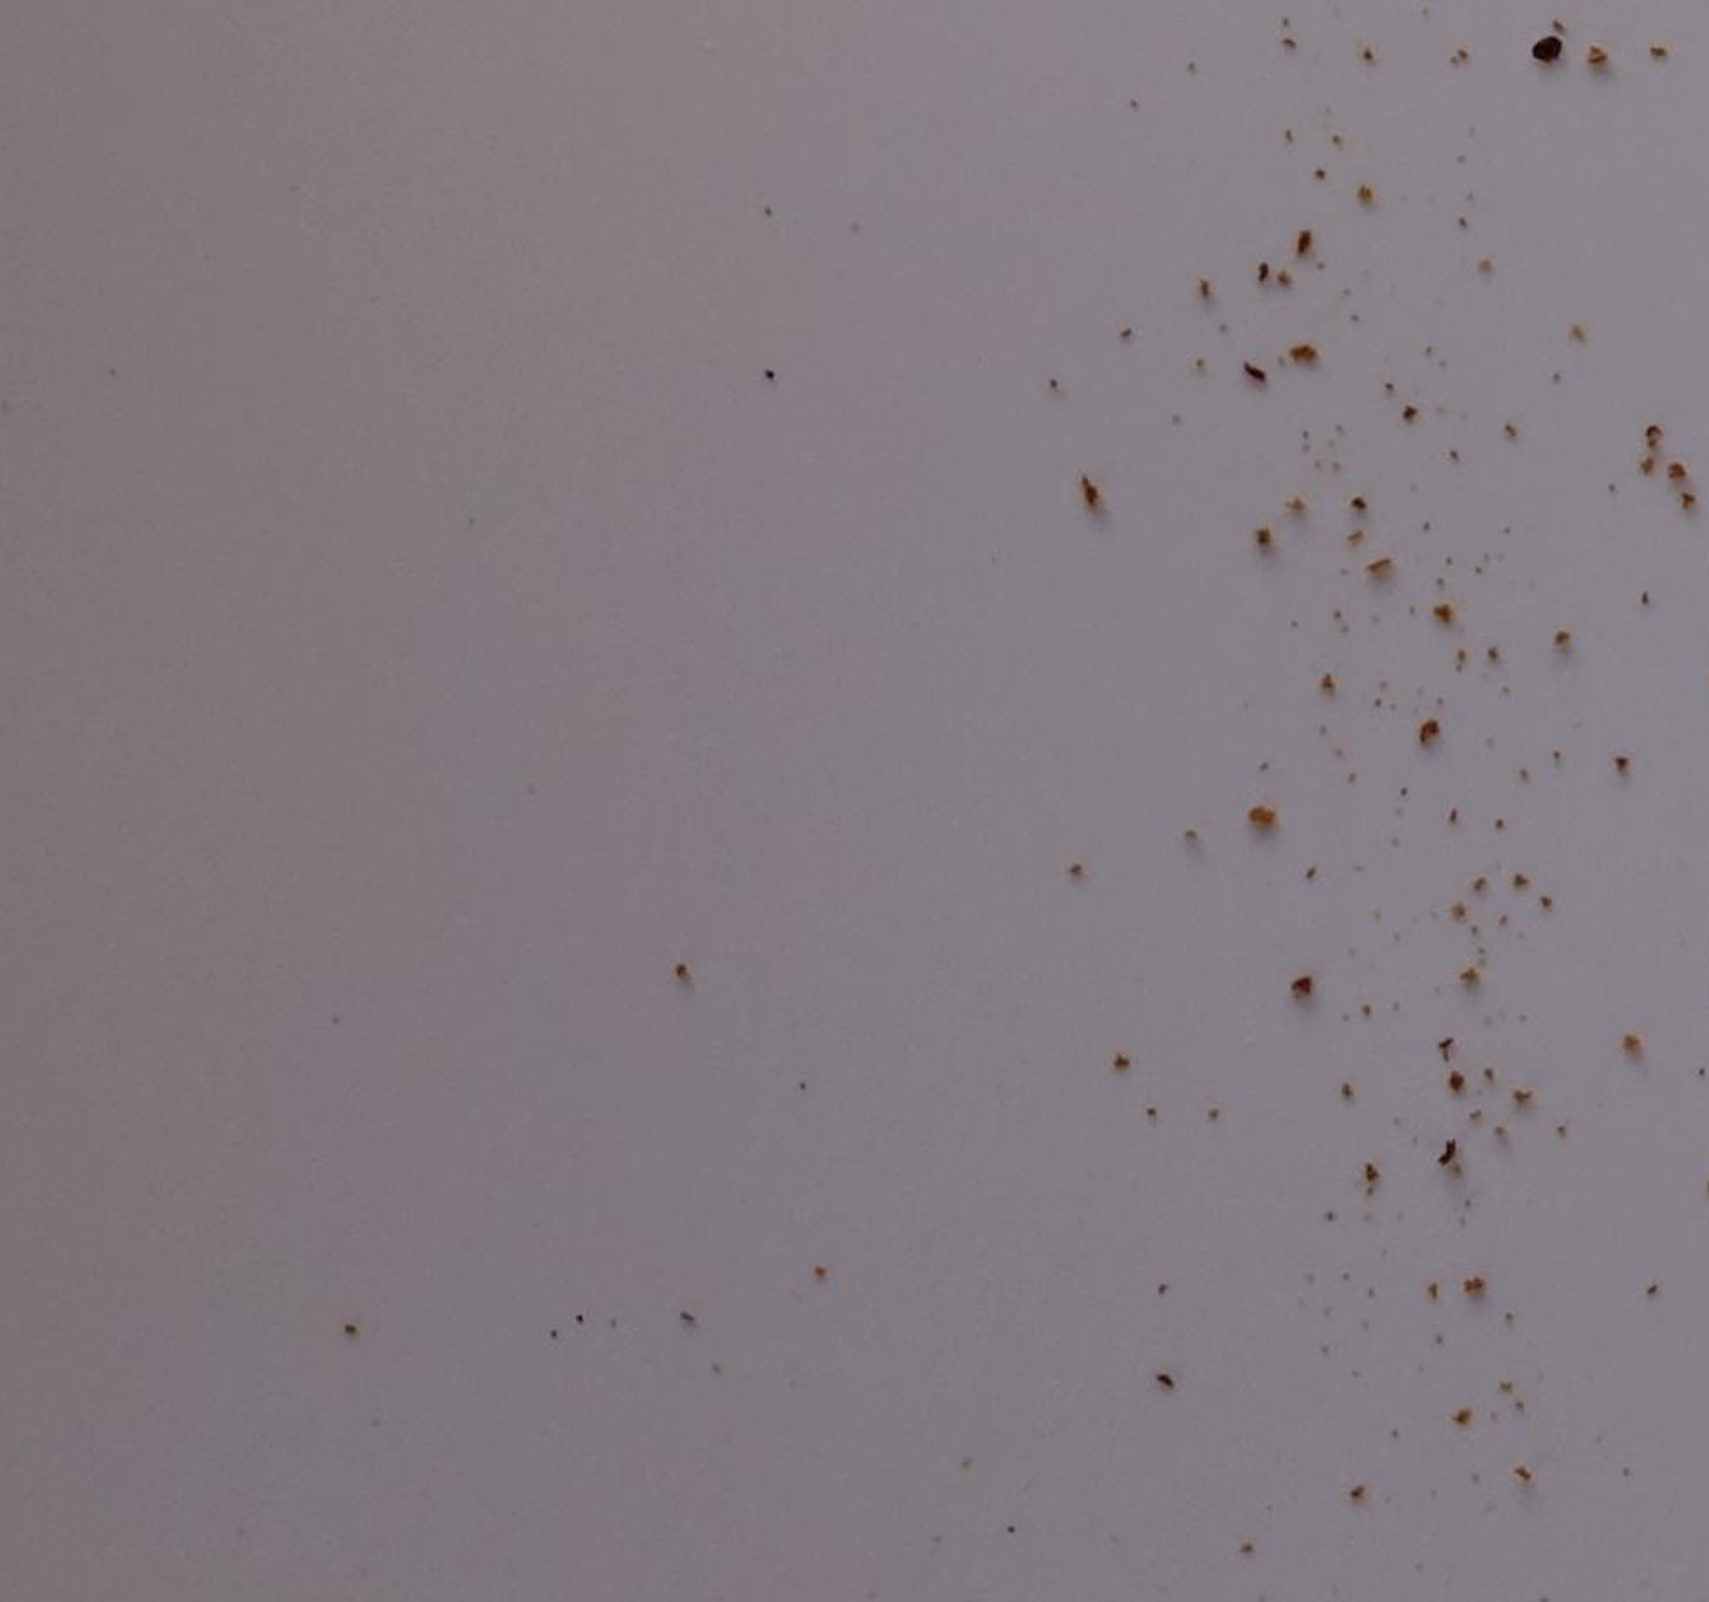Varroa: (1536, 32, 1558, 54)
